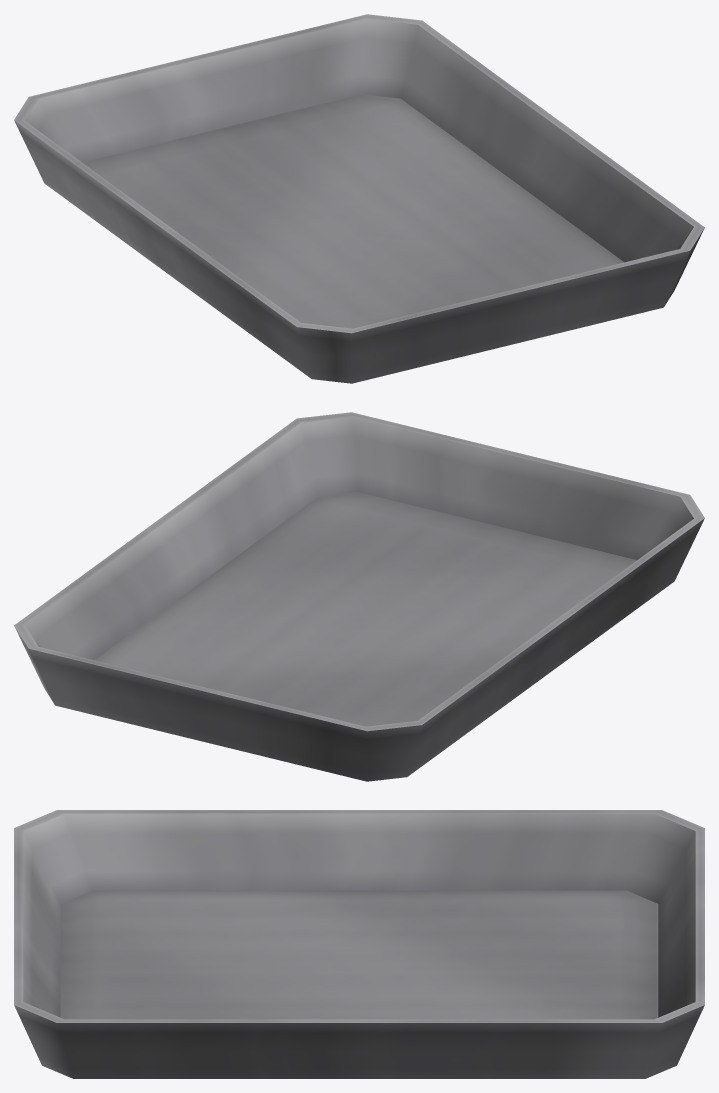
The model's file is KR_Steel_tray_01_02.fbx.
3 views of the same model, one above another, from view 1: azimuth 30°, elevation 25°; view 2: azimuth 150°, elevation 25°; view 3: azimuth 270°, elevation 25° (orthographic). The views are drawn at different scales.
Parts seen in each view (by area): view 1: kr_steel_tray_01_02; view 2: kr_steel_tray_01_02; view 3: kr_steel_tray_01_02.
Part boxes in pixels (box(x1,y1,x2,y2)): kr_steel_tray_01_02: box(14, 14, 704, 383); kr_steel_tray_01_02: box(14, 412, 704, 781); kr_steel_tray_01_02: box(14, 810, 704, 1078).
Bounding box in the file's own units: 13.5 × 2 × 18.5.
